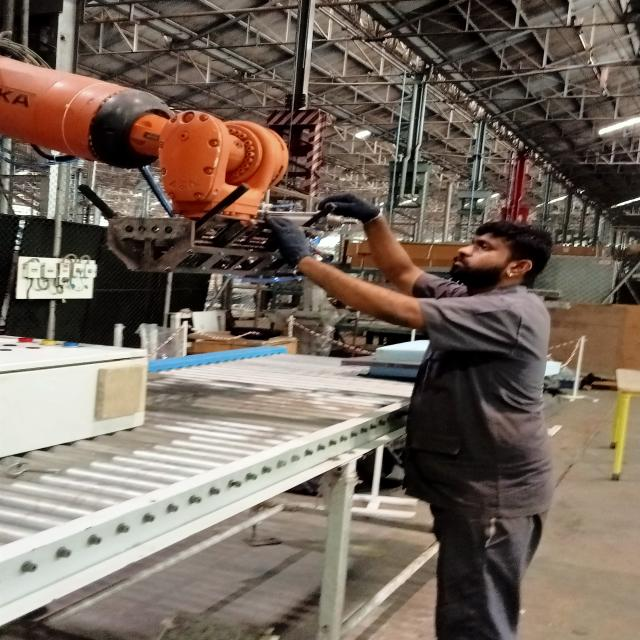Gloves-Detection: (253, 215, 314, 264), (315, 194, 382, 219)
